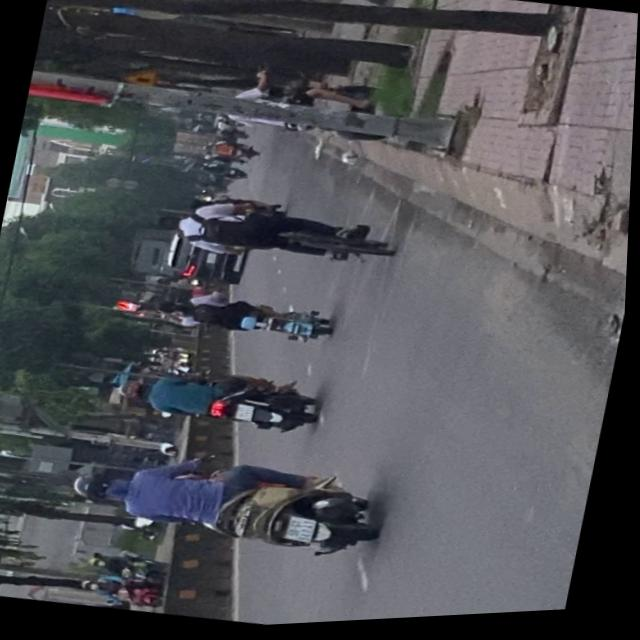helmet: (72, 470, 132, 510), (117, 381, 150, 404)
licenseplate: (61, 433, 395, 581), (113, 356, 330, 448)
nohelmet: (289, 520, 320, 547), (237, 406, 258, 426)
